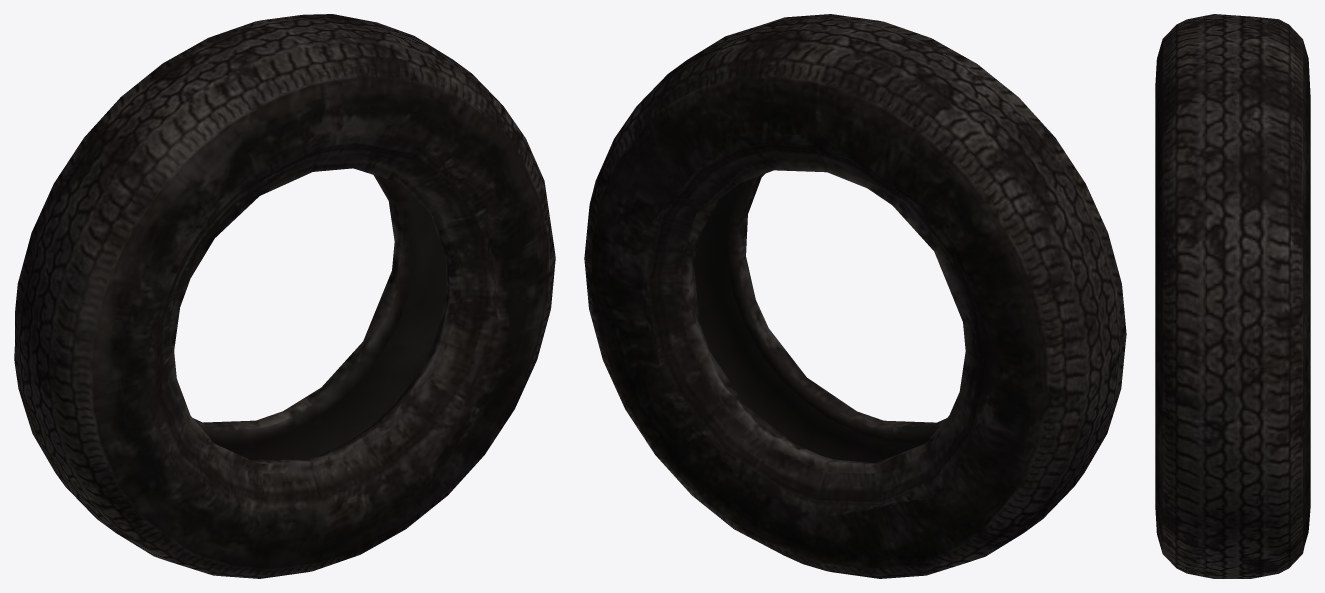
File: old_tyre.glb
3 renders of one model, left to right at view 1: azimuth 30°, elevation 25°; view 2: azimuth 150°, elevation 25°; view 3: azimuth 270°, elevation 25°, orthographic. The views are drawn at different scales.
Visible parts, largest first — view 1: old_tyre; view 2: old_tyre; view 3: old_tyre.
Part boxes in pixels (left/top/right/bottom): old_tyre: left=14, top=14, right=555, bottom=578; old_tyre: left=584, top=14, right=1126, bottom=578; old_tyre: left=1155, top=14, right=1310, bottom=578.
Bounding box in the file's own units: 0.6 × 0.6 × 0.165.
1 material, 1 textured.
